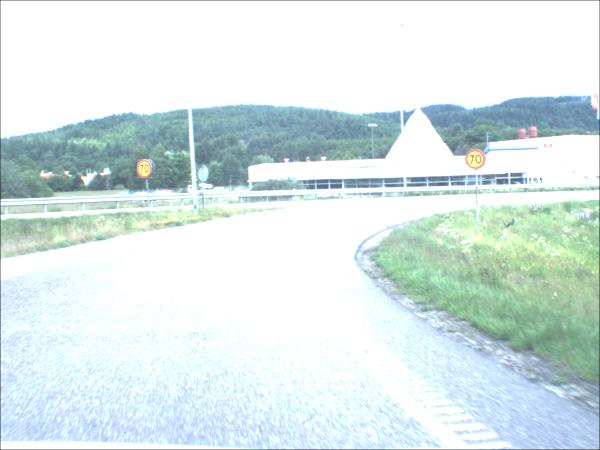70_SIGN: (467, 149, 487, 171), (138, 160, 154, 180)
